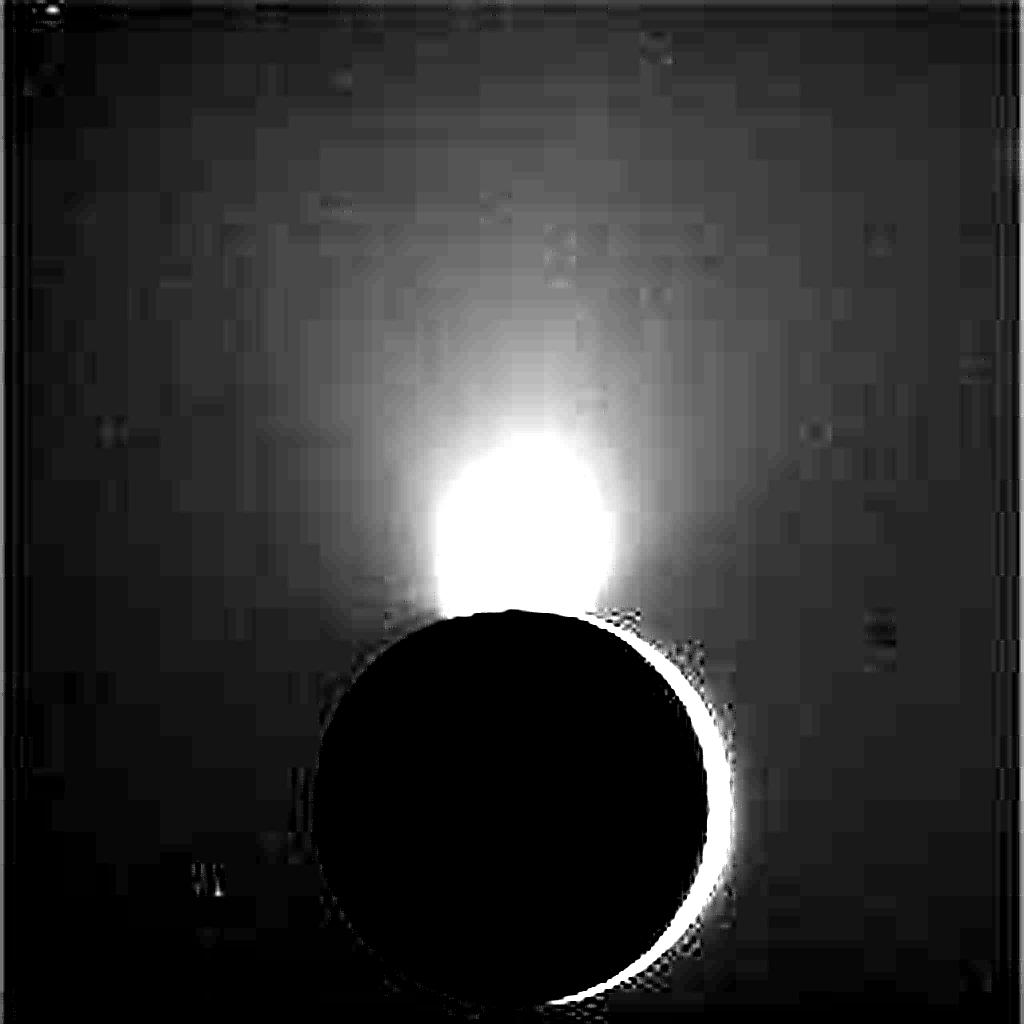plumes: (441, 437, 614, 623)
